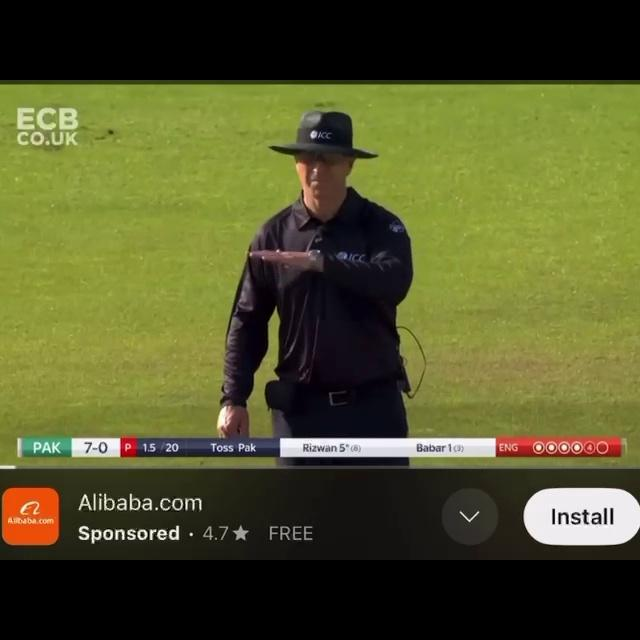umpire: (162, 102, 454, 432)
